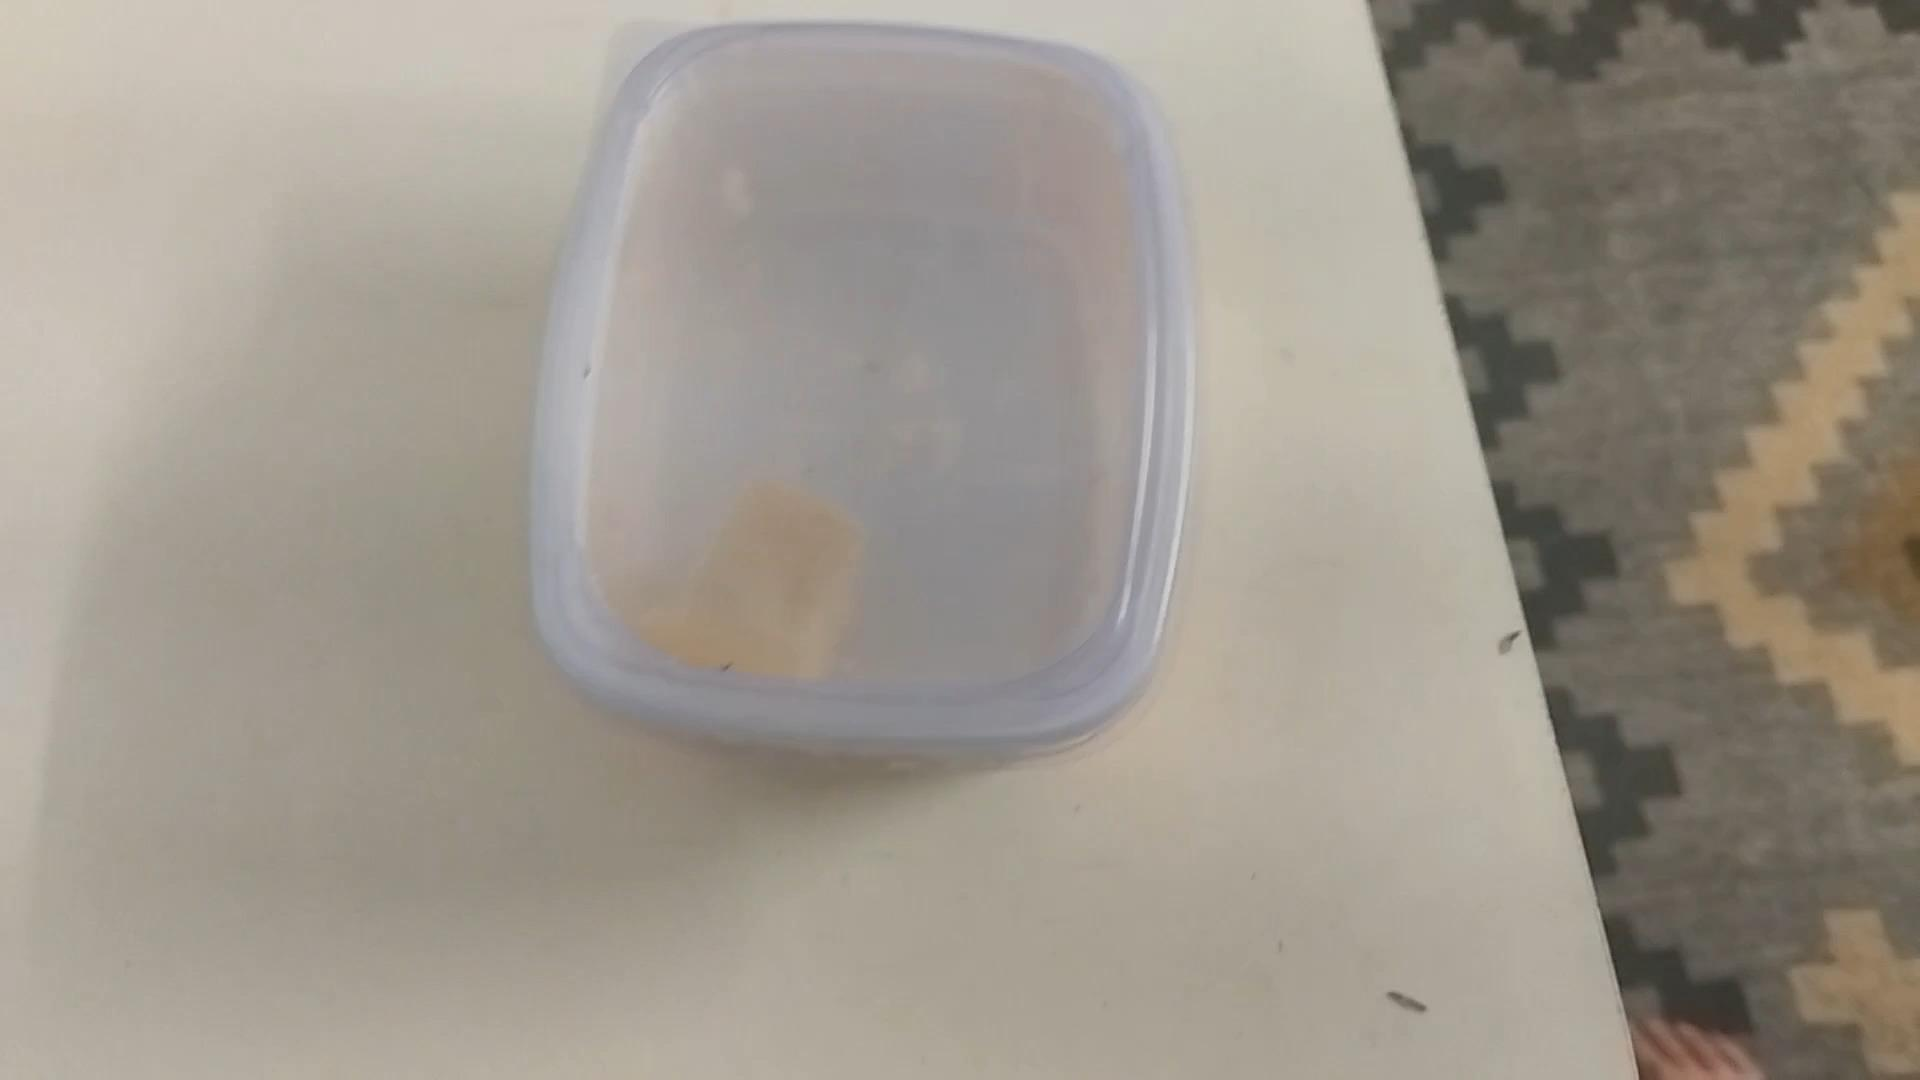butter: (535, 30, 1188, 769)
